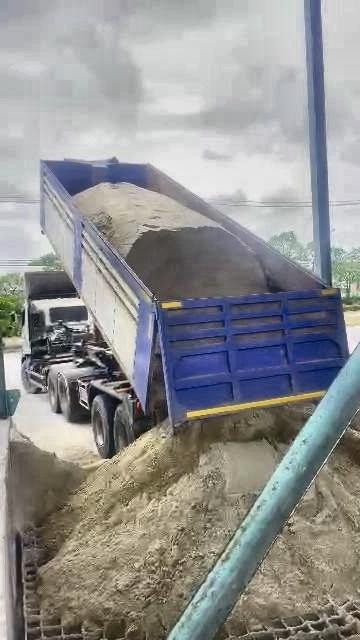sand: (40, 408, 305, 639), (227, 408, 360, 633), (74, 183, 269, 299), (8, 436, 107, 530)
